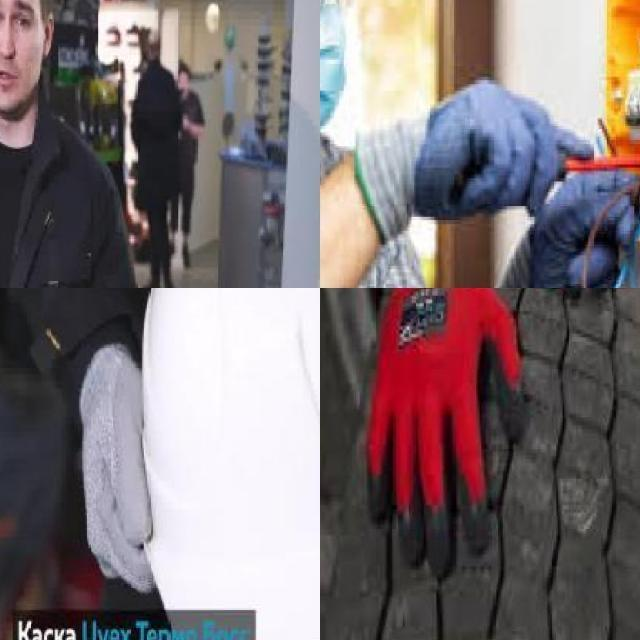apron: (363, 288, 521, 575), (361, 66, 568, 208), (78, 344, 160, 595), (482, 178, 639, 288)
